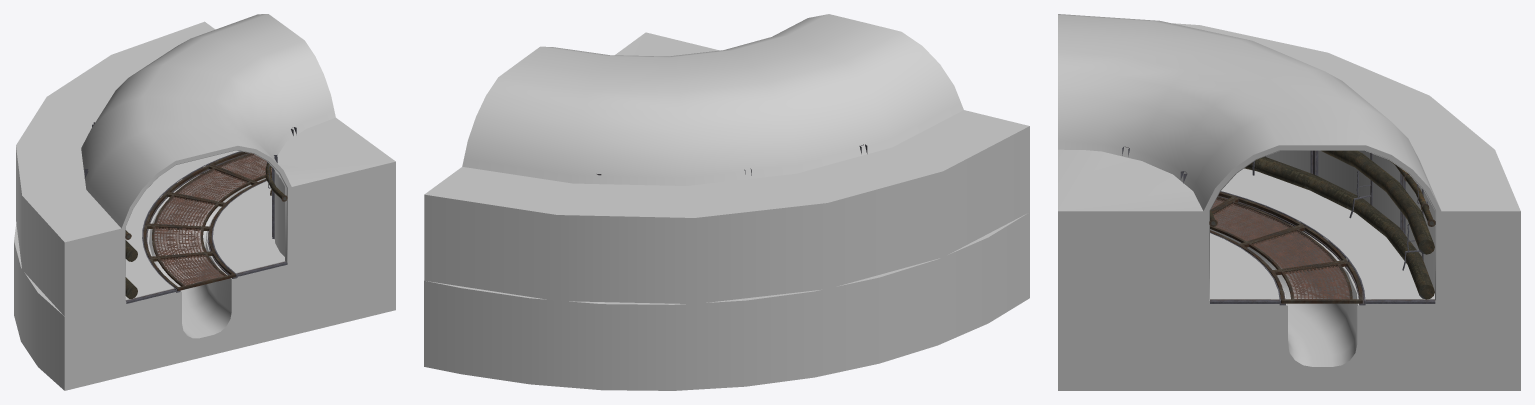
File: SM_Sewer_Tunnel_E.fbx
3 renders of one model, left to right at view 1: azimuth 30°, elevation 25°; view 2: azimuth 150°, elevation 25°; view 3: azimuth 270°, elevation 25°, orthographic. The views are drawn at different scales.
Parts seen in each view (by area): view 1: Base, Ceiling, Wall_Left, Wall_Right, Cage_Floor, Bulks_floor, Wall_Halos, Pipes_Big; view 2: Wall_Left, Ceiling, Base, Wall_Right; view 3: Base, Ceiling, Wall_Left, Wall_Right, Cage_Floor, Pipes_Big, Wall_Halos, Bulks_floor, Pipes_small, Holders, Bulks_wall.
Part boxes in pixels (bbox=[...]): Base: bbox=[14, 150, 395, 390]; Ceiling: bbox=[81, 14, 335, 228]; Wall_Left: bbox=[16, 21, 215, 316]; Wall_Right: bbox=[274, 117, 395, 261]; Cage_Floor: bbox=[143, 151, 271, 291]; Bulks_floor: bbox=[126, 151, 287, 303]; Wall_Halos: bbox=[123, 148, 289, 302]; Pipes_Big: bbox=[125, 240, 137, 298]; Wall_Left: bbox=[424, 110, 1029, 303]; Ceiling: bbox=[462, 14, 963, 185]; Base: bbox=[424, 212, 1029, 390]; Wall_Right: bbox=[615, 32, 719, 56]; Base: bbox=[1058, 168, 1520, 390]; Ceiling: bbox=[1058, 14, 1441, 211]; Wall_Left: bbox=[1173, 23, 1520, 300]; Wall_Right: bbox=[1058, 149, 1206, 300]; Cage_Floor: bbox=[1210, 192, 1362, 303]; Pipes_Big: bbox=[1244, 150, 1434, 299]; Wall_Halos: bbox=[1206, 147, 1438, 300]; Bulks_floor: bbox=[1210, 191, 1435, 305]; Pipes_small: bbox=[1209, 160, 1435, 226]; Holders: bbox=[1252, 153, 1427, 270]; Bulks_wall: bbox=[1122, 146, 1405, 234].
Size of the model in its own units: 1401 by 820 by 1400.
